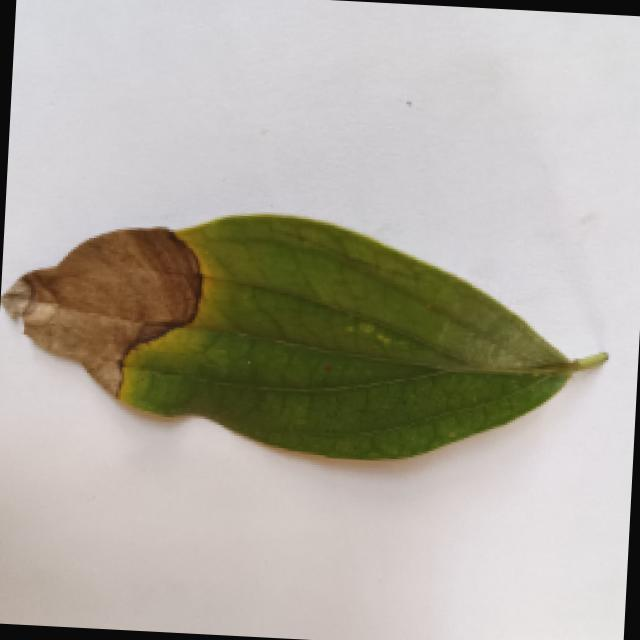footrot: (0, 201, 617, 490)
